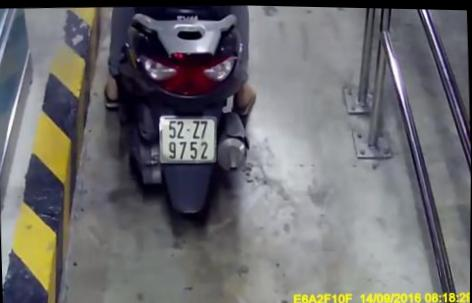LP: (156, 110, 221, 165)
